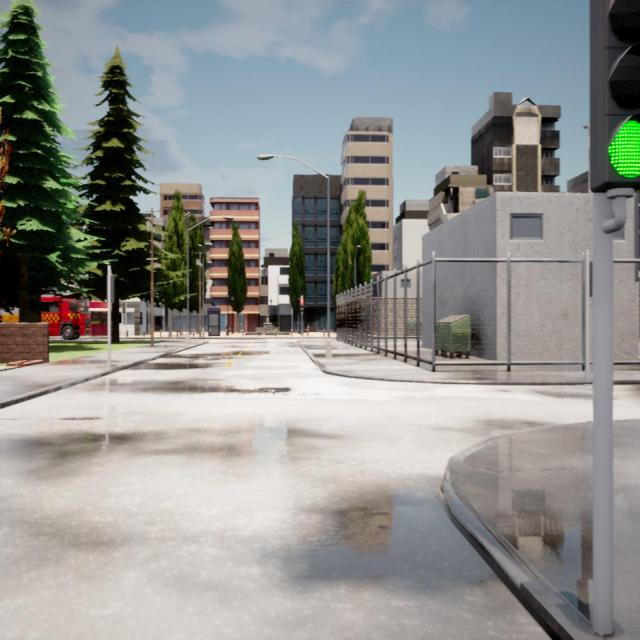Vehicle: (40, 296, 90, 338)
traffic_light: (590, 0, 640, 192), (110, 274, 114, 300), (300, 301, 304, 312)
